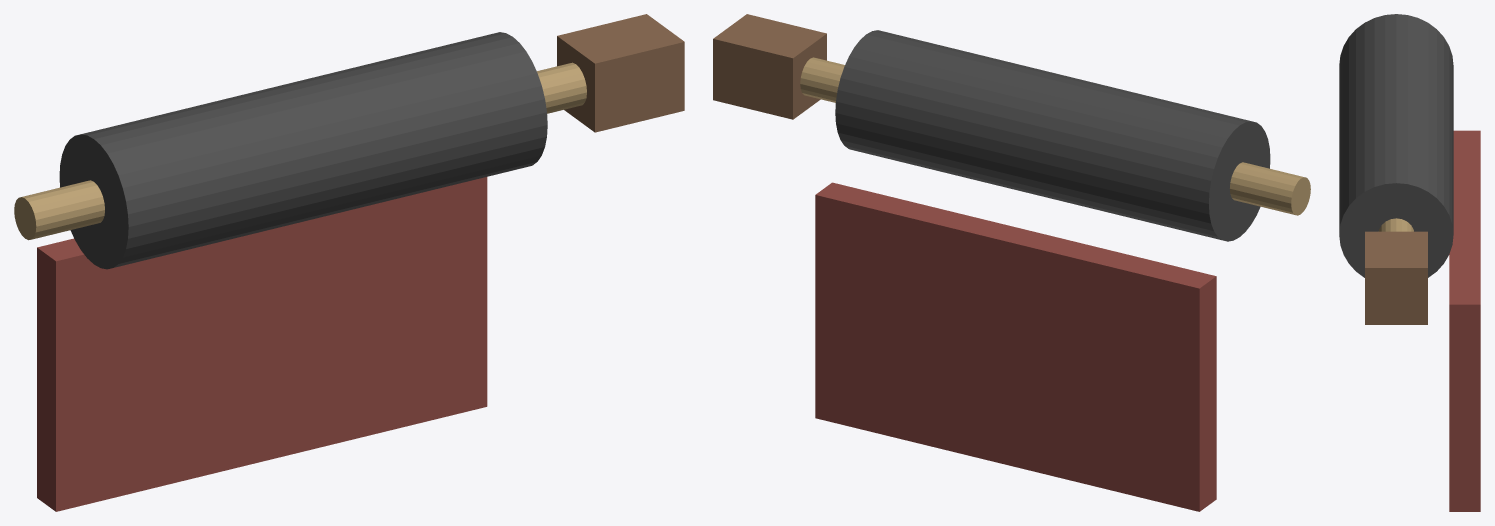
The model's file is yin_roller.glb.
3 renders of one model, left to right at view 1: azimuth 30°, elevation 25°; view 2: azimuth 150°, elevation 25°; view 3: azimuth 270°, elevation 25°, orthographic. The views are drawn at different scales.
Parts seen in each view (by area): view 1: ink_tray, roller, handle, axle; view 2: ink_tray, roller, handle, axle; view 3: roller, ink_tray, handle, axle.
Boxes of the visible parts, bbox=[...] form: ink_tray: bbox=[37, 177, 487, 511]; roller: bbox=[59, 32, 547, 269]; handle: bbox=[557, 14, 684, 132]; axle: bbox=[14, 62, 586, 240]; ink_tray: bbox=[815, 182, 1216, 511]; roller: bbox=[835, 30, 1270, 241]; handle: bbox=[713, 14, 826, 119]; axle: bbox=[800, 57, 1310, 215]; roller: bbox=[1339, 14, 1453, 277]; ink_tray: bbox=[1449, 130, 1480, 511]; handle: bbox=[1365, 231, 1427, 324]; axle: bbox=[1378, 218, 1413, 231].
Size of the model in its own units: 1.07 by 0.63 by 0.2475.
